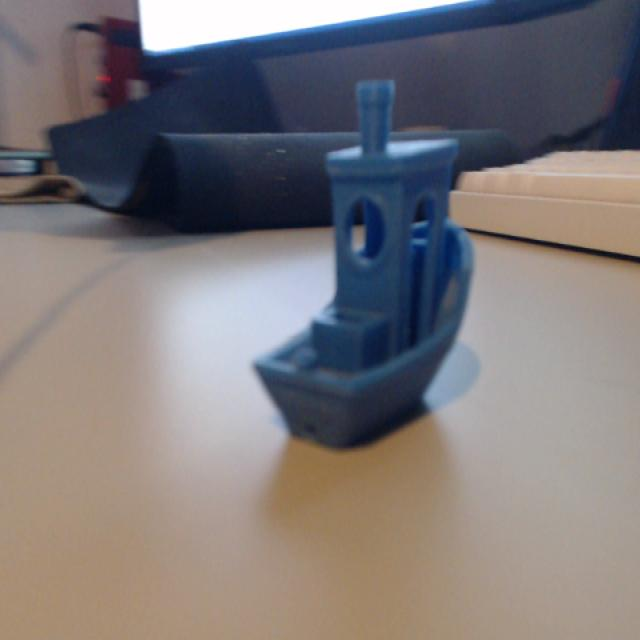benchy: (249, 75, 477, 448)
